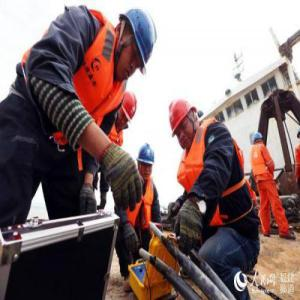blue: (116, 4, 158, 81), (138, 143, 156, 181), (254, 132, 264, 148)
red: (169, 97, 200, 154), (117, 91, 138, 133)
